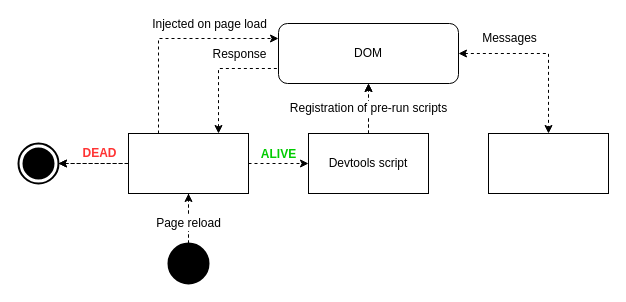
This 626x302 diagram has some shape labels left out. Here are the shapes that lost their labels. From the top down, the centre of each, then its label:
point (188, 163): Detection script
point (548, 163): Devtools Panel
